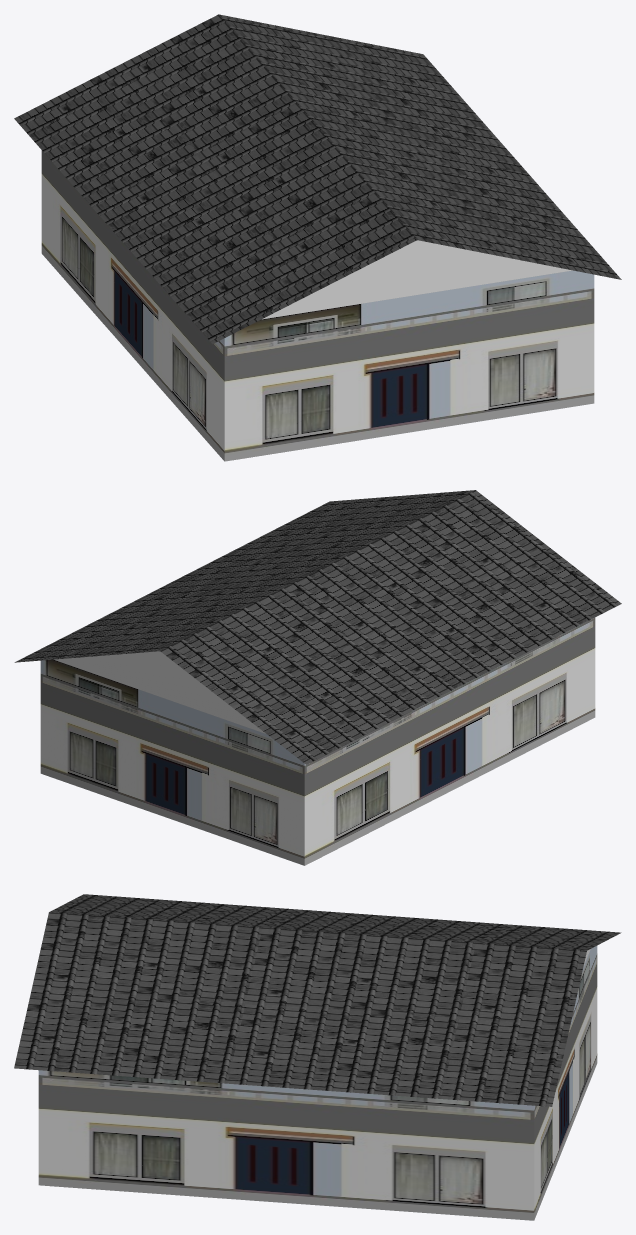
The picture shows the model from 3 angles, top to bottom: view 1: azimuth 30°, elevation 25°; view 2: azimuth 150°, elevation 25°; view 3: azimuth 270°, elevation 25°; orthographic projection. The views are drawn at different scales.
Parts seen in each view (by area): view 1: CityEngineMaterial_8_m, CityEngineMaterial_7_m, CityEngineMaterial_3_m; view 2: CityEngineMaterial_8_m, CityEngineMaterial_7_m, CityEngineMaterial_3_m; view 3: CityEngineMaterial_8_m, CityEngineMaterial_7_m.
Boxes of the visible parts, x1,y1,x2,y2 form: CityEngineMaterial_8_m: (14,14,621,344); CityEngineMaterial_7_m: (41,150,594,461); CityEngineMaterial_3_m: (262,240,572,319); CityEngineMaterial_8_m: (14,490,621,764); CityEngineMaterial_7_m: (40,617,595,865); CityEngineMaterial_3_m: (54,651,265,733); CityEngineMaterial_8_m: (14,894,621,1106); CityEngineMaterial_7_m: (38,946,597,1220).
Size of the model in its own units: 23.25 by 9.83 by 28.07.
